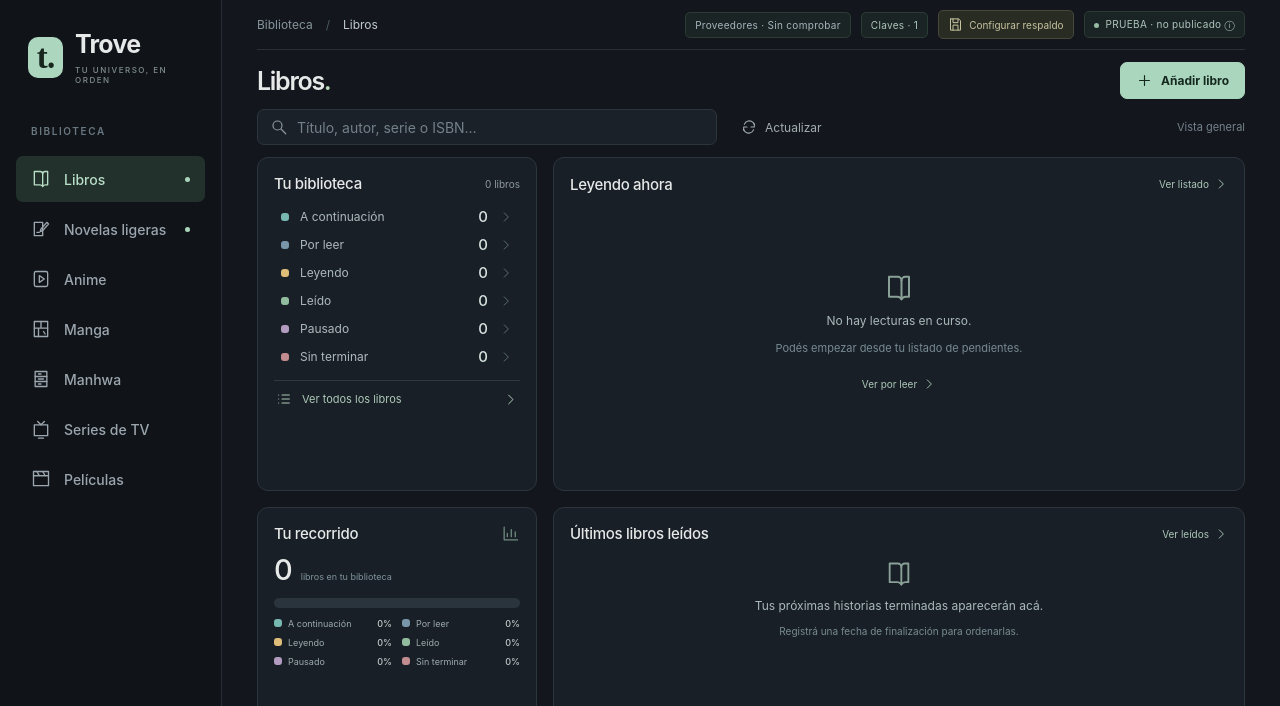
Catálogo de Libros › reconoce una edición local antes de ofrecer agregar y muestra su gestión
The image size is (1280, 706).
Expected: the button "Ver todos los libros" is shown, [274, 380, 520, 407]
Type "9780547928227" into the search field named "Buscar por título".
click(487, 127); type("9780547928227")  # box [257, 109, 717, 145]
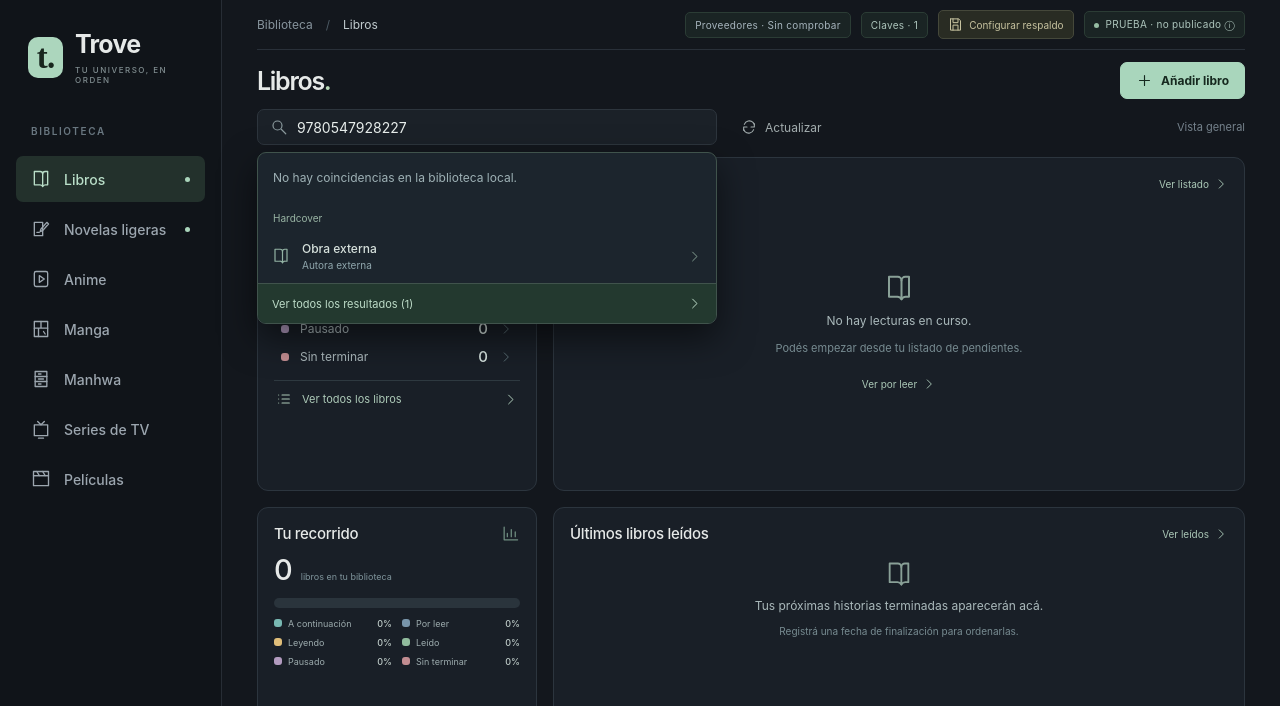
Click the button "Obra externa Autora externa".
click(339, 249)  # box [258, 229, 716, 283]
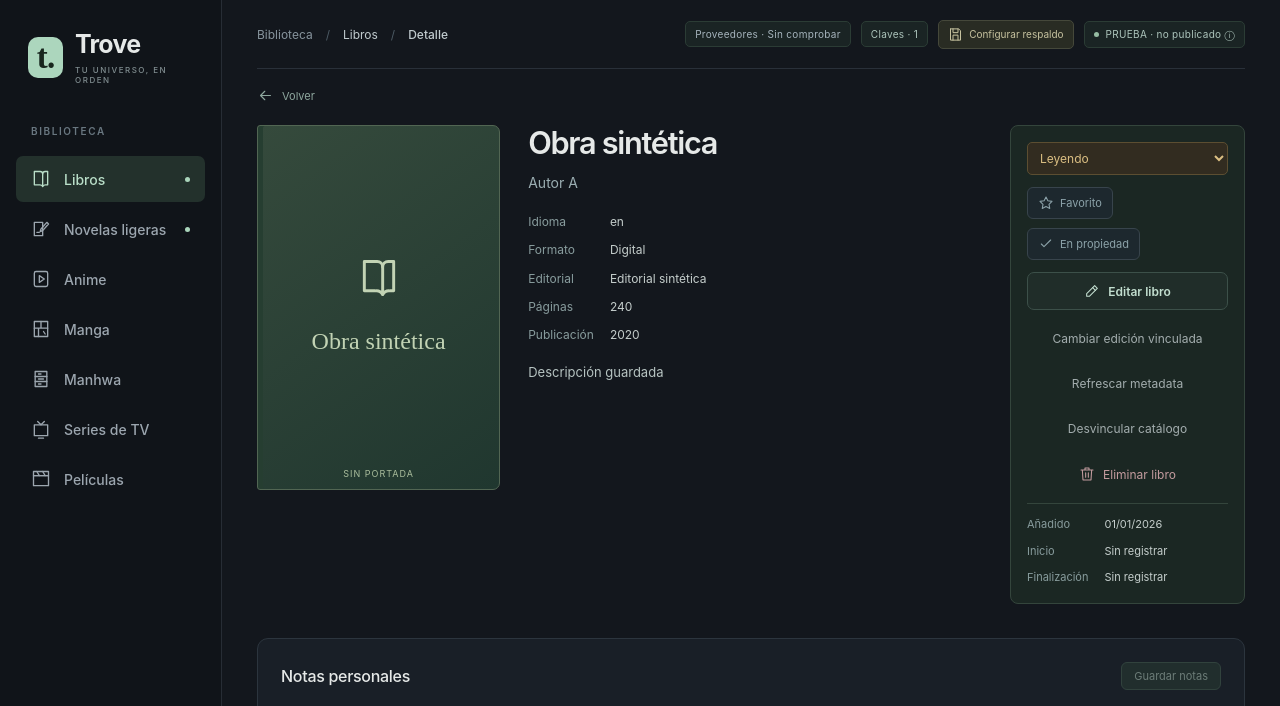
Expected: the dropdown named "Estado de Obra sintética" shows "Leyendo", [1027, 142, 1228, 175]
